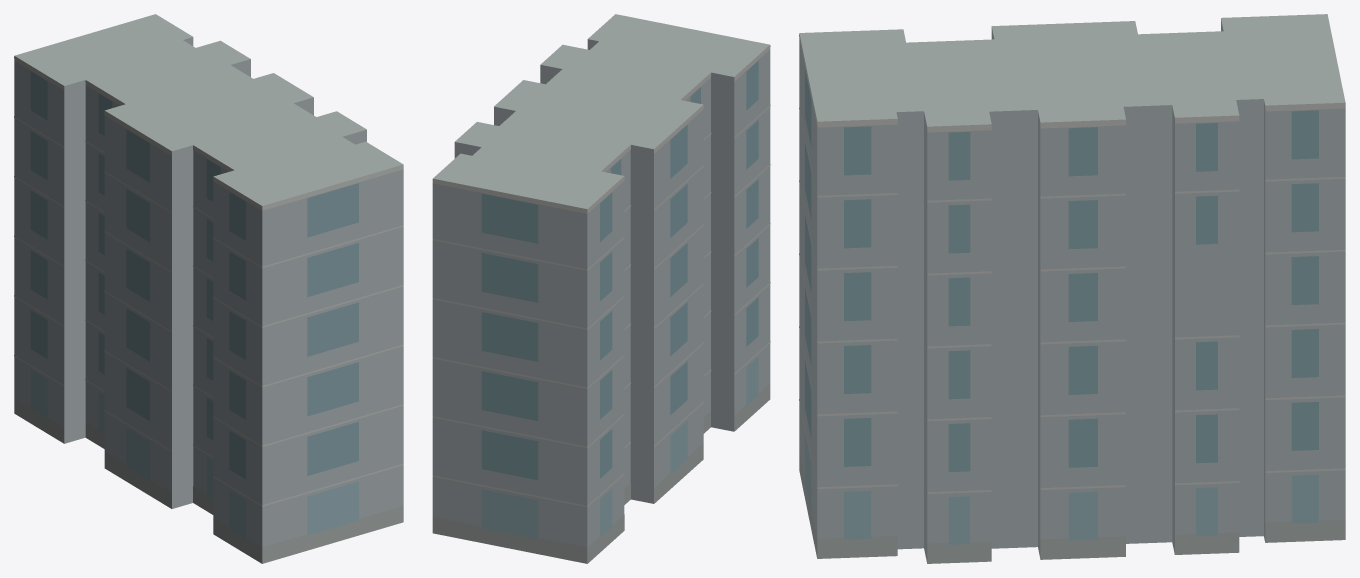
The model's file is survey-upis-32976919.glb.
3 views of the same model, side by side, from view 1: azimuth 30°, elevation 25°; view 2: azimuth 150°, elevation 25°; view 3: azimuth 270°, elevation 25° (orthographic). The views are drawn at different scales.
Parts seen in each view (by area): view 1: survey-upis-32976919.tmp; view 2: survey-upis-32976919.tmp; view 3: survey-upis-32976919.tmp.
Part boxes in pixels (box(x1,y1,x2,y2)): survey-upis-32976919.tmp: box(14, 14, 403, 563); survey-upis-32976919.tmp: box(432, 14, 770, 563); survey-upis-32976919.tmp: box(799, 14, 1345, 563).
Bounding box in the file's own units: 10.14 × 18.3 × 20.75.
